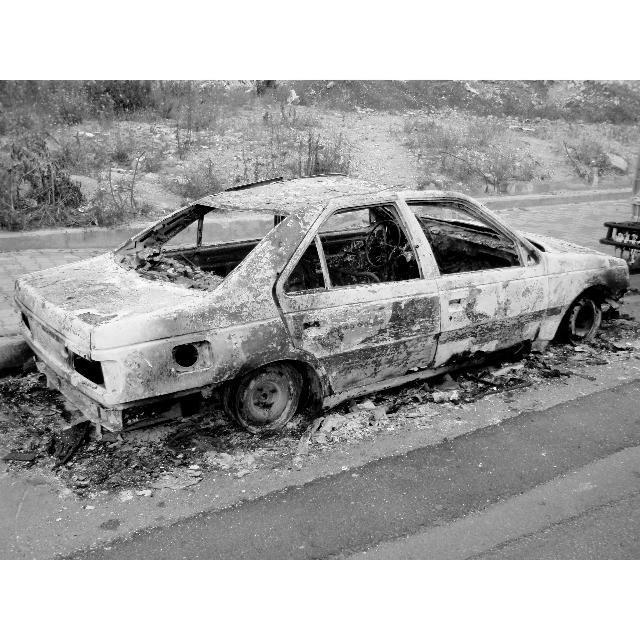Rear-windscreen-Damage: (128, 205, 283, 287)
Runningboard-Damage: (321, 369, 436, 407), (437, 338, 535, 382)
Taillight-Damage: (64, 351, 112, 389), (16, 302, 43, 350)
quaterpanel-dent: (140, 319, 277, 399)
roof-dent: (220, 175, 441, 207)
